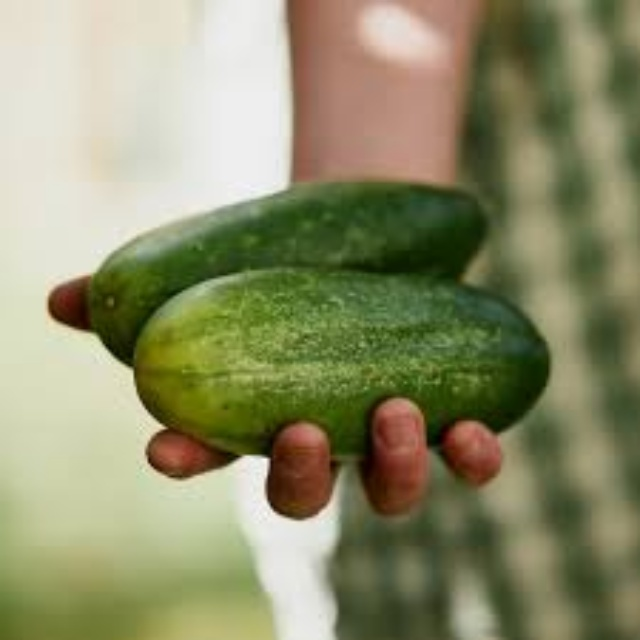dua_leo: (127, 265, 553, 469), (88, 180, 535, 366)
